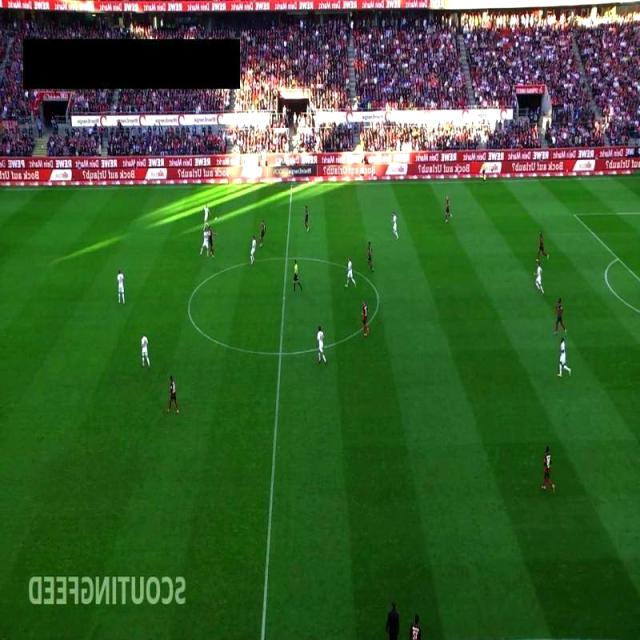bigarea_top_inner: (568, 208, 578, 219)
halfcircle_bottom: (274, 346, 286, 359)
halfcircle_top: (280, 252, 294, 264)
midline_top_intersection: (285, 181, 298, 190)
top_arc_area_intersection: (611, 252, 622, 262)
